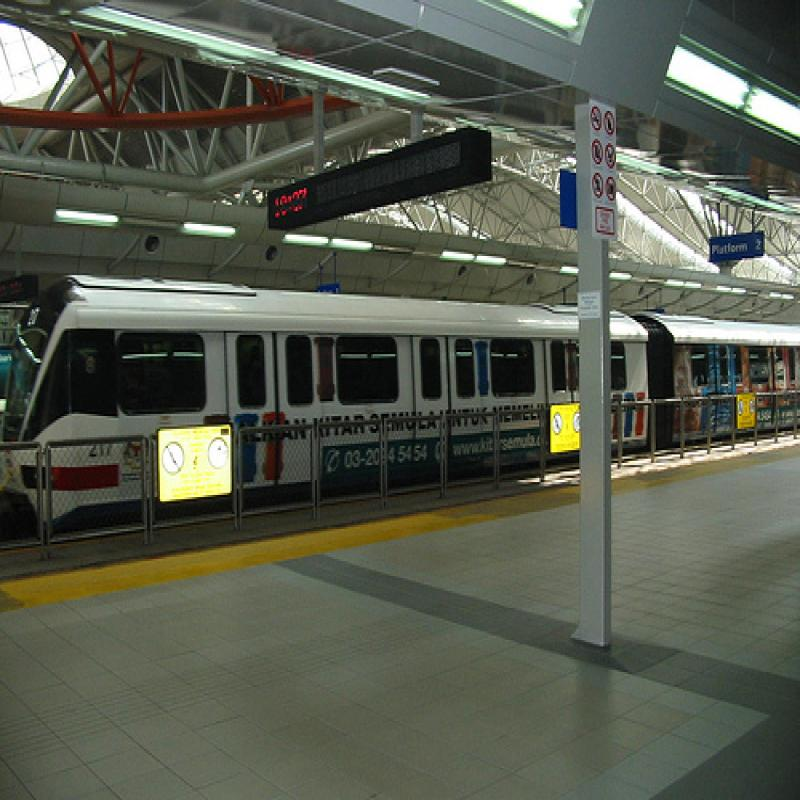train: (1, 269, 799, 532)
